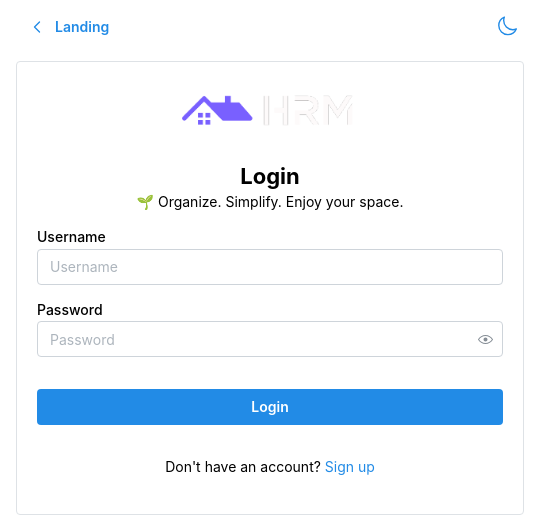
Login [Integration] › should show loading state while submitting
Type "user" into the field labelled "Username" at (270, 267), box [37,249,503,285]
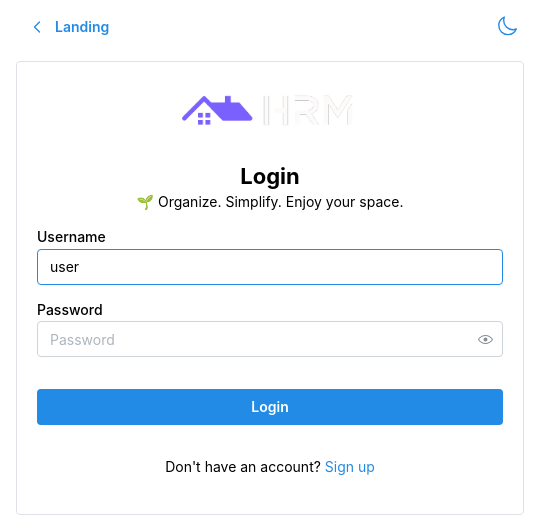
Type "pass" into the password field with placeholder "Password" at (270, 340), box [38,322,502,356]
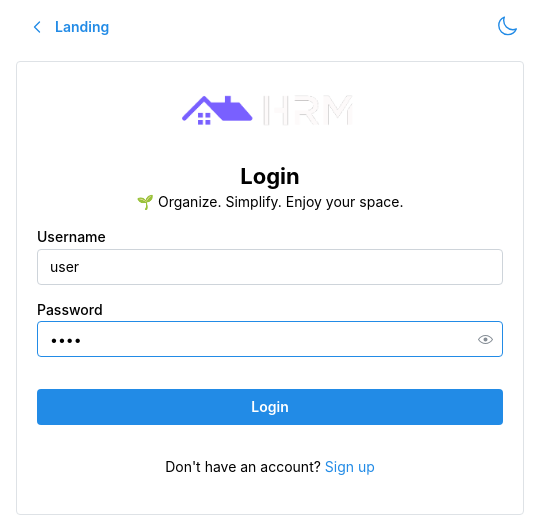
Click the button "Login" at (270, 408), box [37,390,503,426]
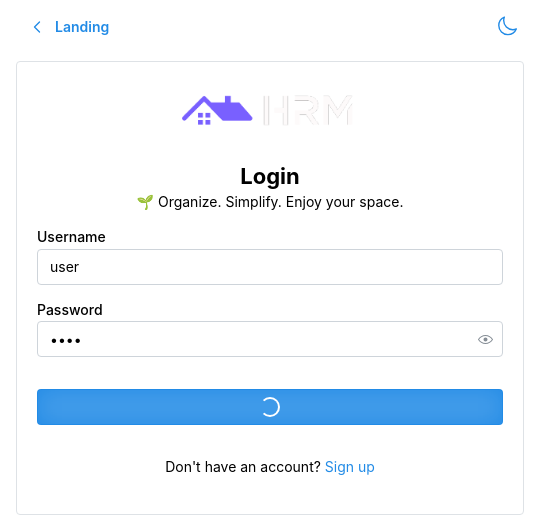
Result: the 4th button named "login" is disabled at [37,390,503,426]
